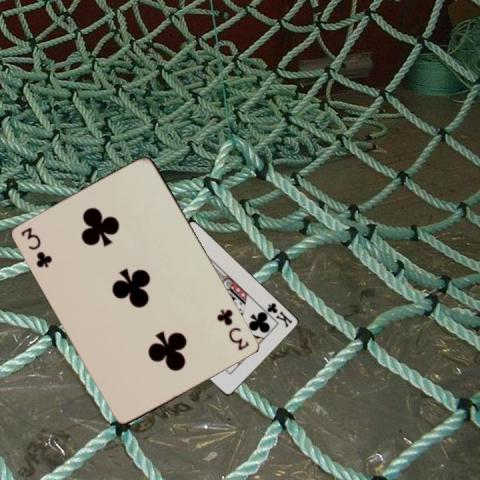3c: (214, 306, 251, 352), (19, 224, 53, 269)
Kc: (264, 299, 294, 329)
